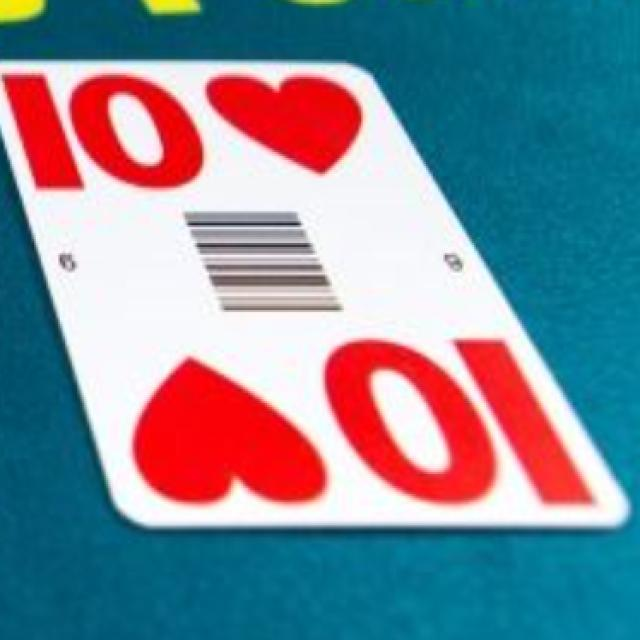Card-10: (0, 60, 630, 530)
